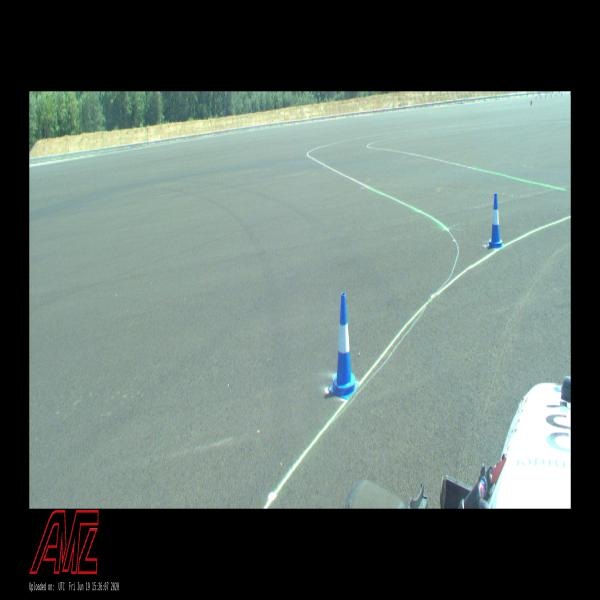blue_cone: (329, 293, 359, 400), (487, 193, 503, 249)
